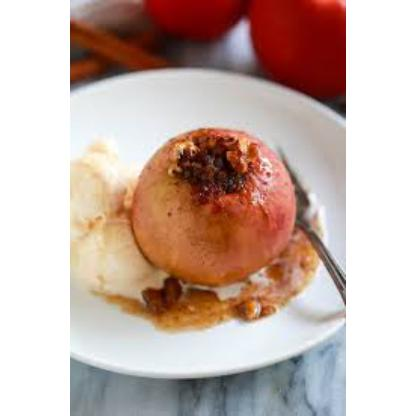damaged_apple: (131, 127, 295, 287)
